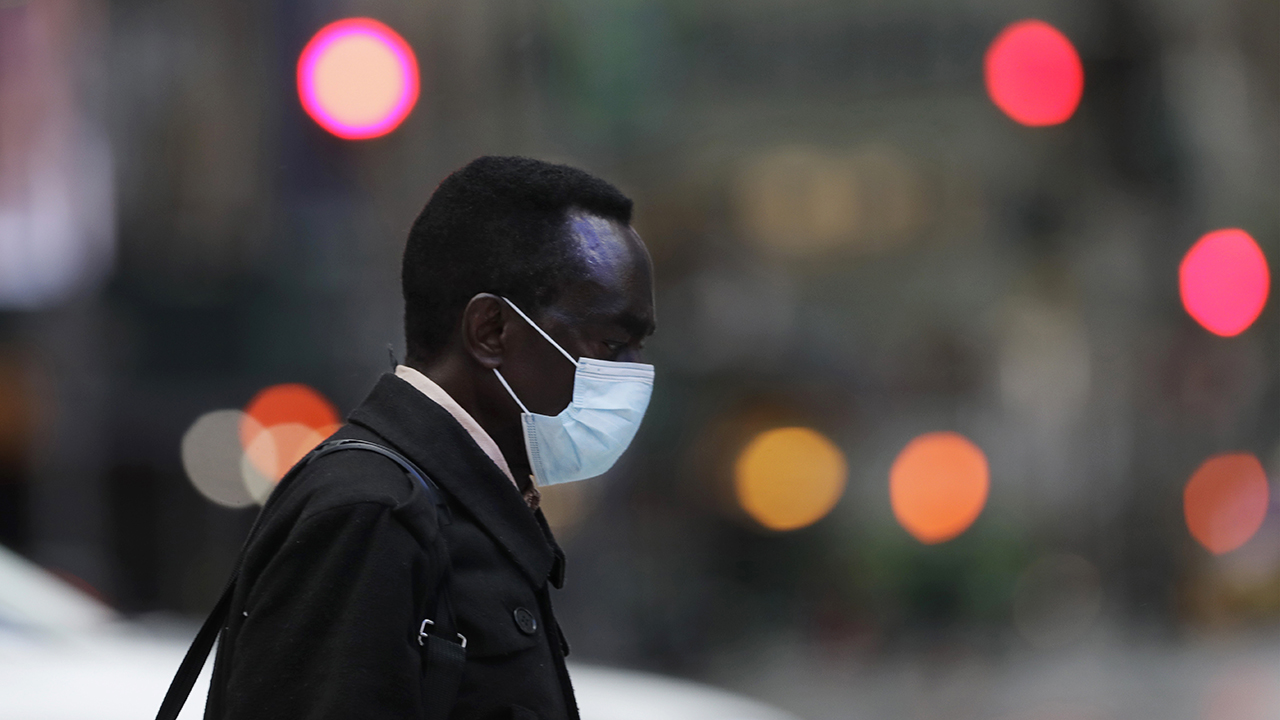with_mask: (505, 291, 661, 489)
